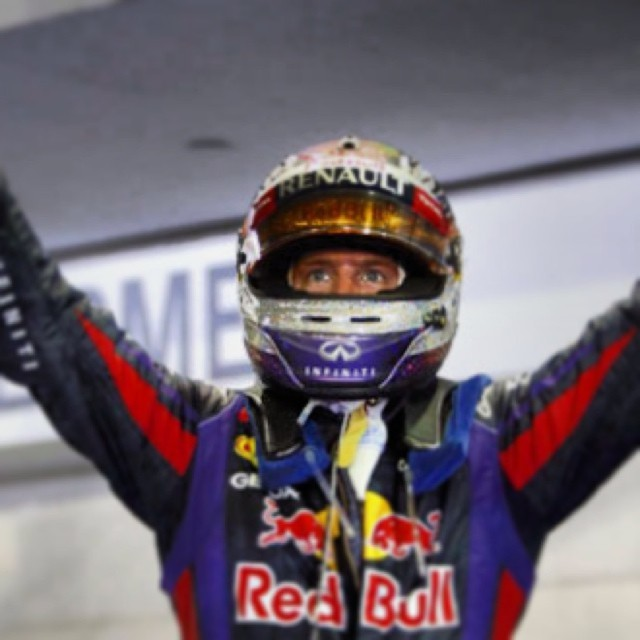helmet: (241, 149, 452, 392)
